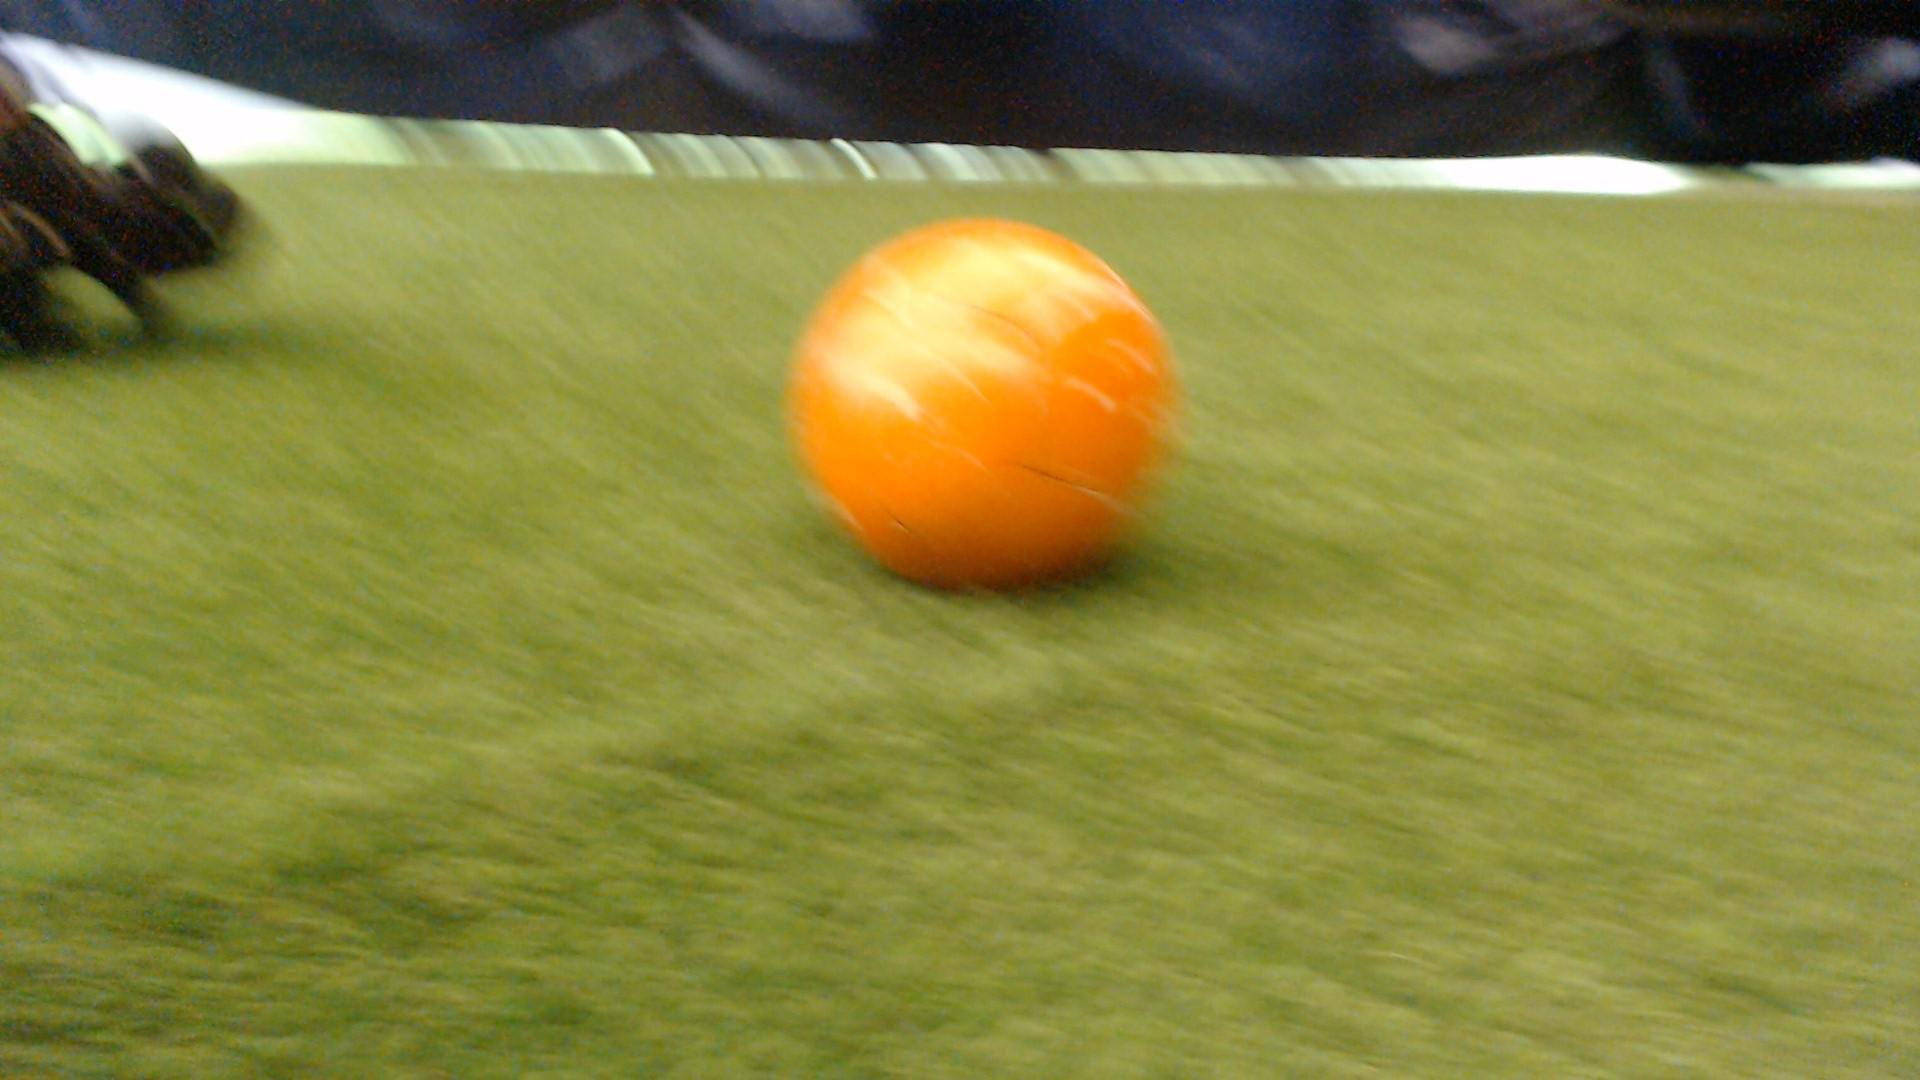bola: (761, 202, 1232, 615)
